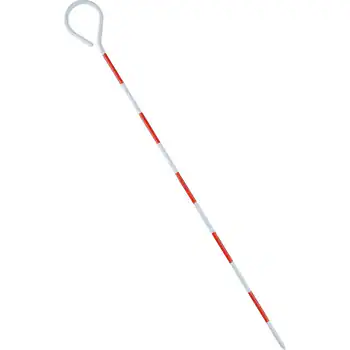poll: (59, 3, 254, 349)
